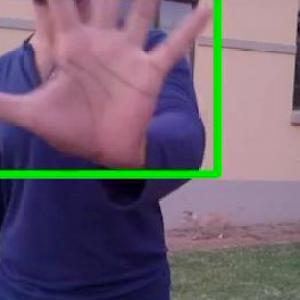follow_hand: (1, 0, 225, 168)
